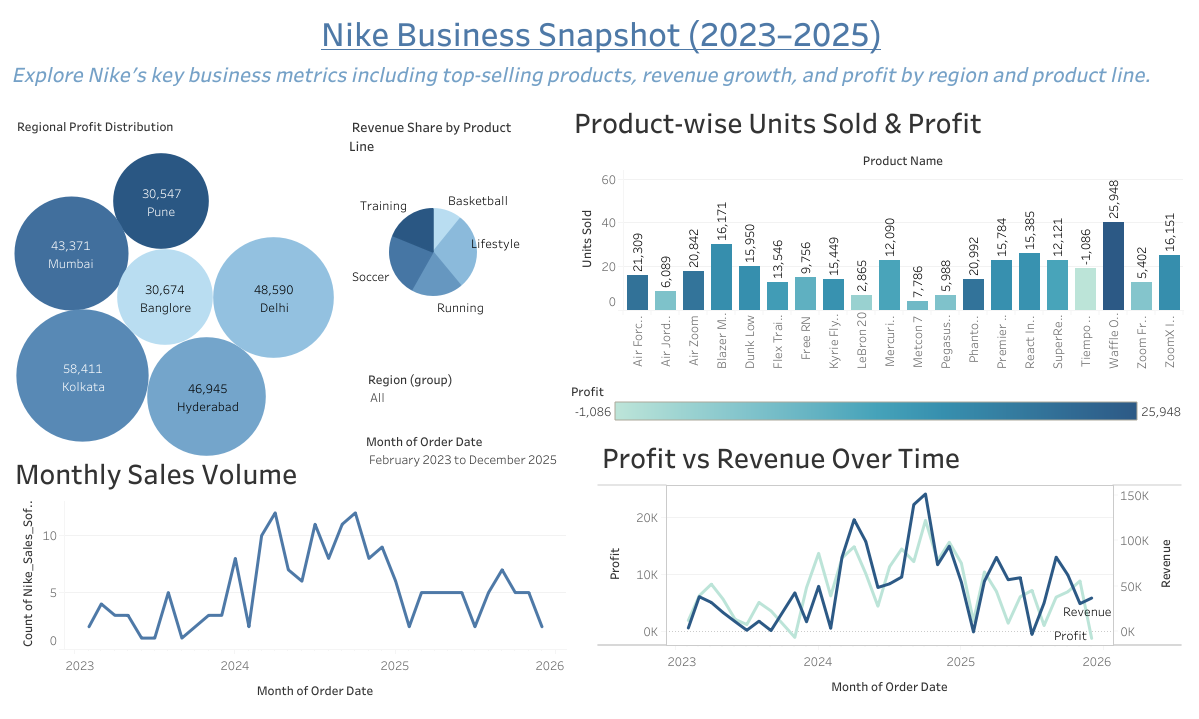

This screenshot's page, from the dashboard's own definition file:
{"tool":"tableau","page":{"name":"Dashboard 1","canvas":[1200,720],"ordinal":0},"visuals":[{"type":"text","box":[2,6,1199,54]},{"type":"text","box":[9,60,1176,28]},{"type":"worksheet","title":"Sheet 4","mark":"Automatic","rows":["Units_Sold"],"cols":["Product_Name"],"box":[570,97,613,273]},{"type":"worksheet","title":"Sheet 2","mark":"Circle","box":[13,111,374,354]},{"type":"worksheet","title":"Sheet 5","mark":"Pie","box":[345,111,200,247]},{"type":"filter","title":"Sheet 3","param":"[federated.0eeei000id7umr1dxawfj0ikv9zo].[Region (group)]","box":[368,369,160,48]},{"type":"legend","title":"Sheet 4","param":"[federated.0eeei000id7umr1dxawfj0ikv9zo].[sum:Profit:qk]","box":[571,378,615,62]},{"type":"filter","title":"Sheet 3","param":"[federated.0eeei000id7umr1dxawfj0ikv9zo].[tmn:Order_Date:qk]","box":[366,431,195,62]},{"type":"worksheet","title":"Sheet 6","mark":"Automatic","rows":["Profit","Revenue"],"cols":["Order_Date"],"box":[598,432,584,271]},{"type":"worksheet","title":"Sheet 3","mark":"Automatic","rows":["Nike_Sales_SoftCleaned_Final.csv_8B85A4F677DD4C87B8499CA07C4"],"cols":["Order_Date"],"box":[11,448,555,258]}]}

Visuals, with their boxes in screenshot pixels (x1, y1, x2, y2), scaled from the page's 1200x720 canvas onto the 1199x719 screenshot:
text: pyautogui.locateOnScreen(2, 6, 1198, 60)
text: pyautogui.locateOnScreen(9, 60, 1184, 88)
"Sheet 4" worksheet: pyautogui.locateOnScreen(570, 97, 1182, 369)
"Sheet 2" worksheet (Circle marks): pyautogui.locateOnScreen(13, 111, 387, 464)
"Sheet 5" worksheet (Pie marks): pyautogui.locateOnScreen(345, 111, 545, 358)
"Sheet 3" filter: pyautogui.locateOnScreen(368, 368, 528, 416)
"Sheet 4" legend: pyautogui.locateOnScreen(571, 377, 1185, 439)
"Sheet 3" filter: pyautogui.locateOnScreen(366, 430, 561, 492)
"Sheet 6" worksheet: pyautogui.locateOnScreen(598, 431, 1181, 702)
"Sheet 3" worksheet: pyautogui.locateOnScreen(11, 447, 566, 705)
